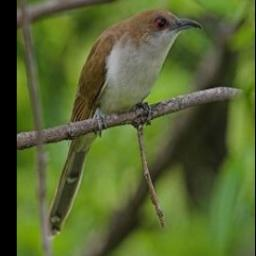Cuckoo: (47, 7, 204, 237)
